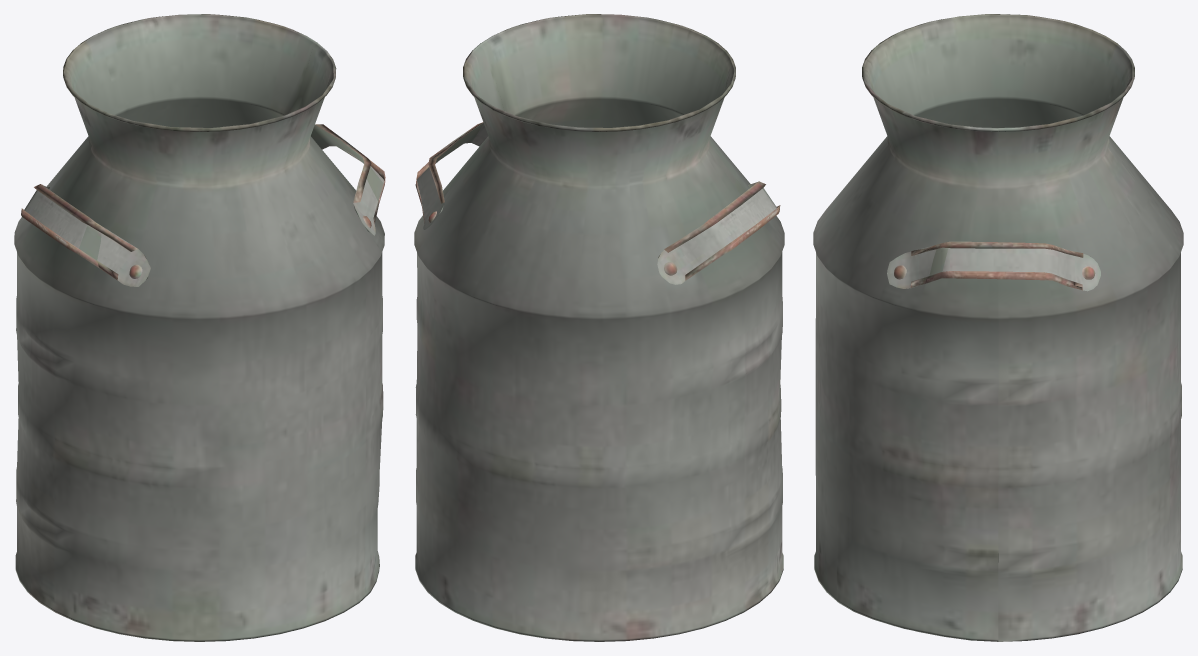
The model's file is ph_metal_jug.glb.
3 renders of one model, left to right at view 1: azimuth 30°, elevation 25°; view 2: azimuth 150°, elevation 25°; view 3: azimuth 270°, elevation 25°, orthographic.
Parts seen in each view (by area): view 1: metal_jug; view 2: metal_jug; view 3: metal_jug.
Part boxes in pixels (box(x1,y1,x2,y2)): metal_jug: box(14, 14, 385, 641); metal_jug: box(414, 14, 784, 641); metal_jug: box(813, 14, 1183, 641).
Size of the model in its own units: 0.1969 by 0.2876 by 0.1958.
Materials: 1 (1 with a texture image).
